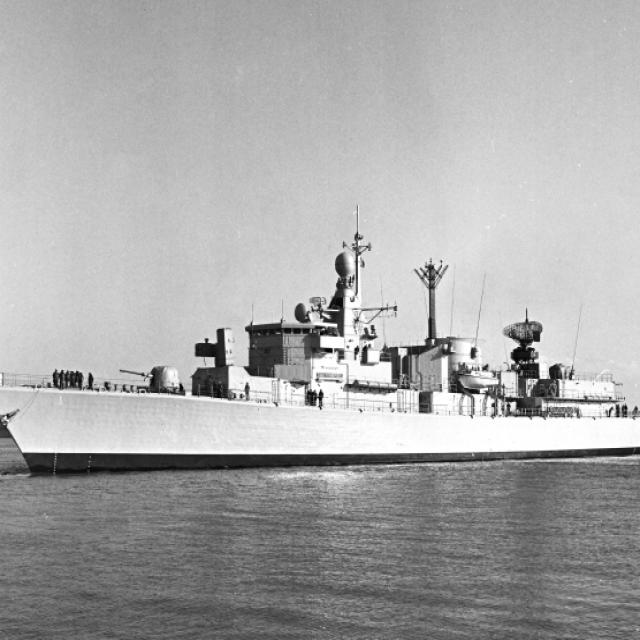Fragata: (1, 201, 640, 487)
